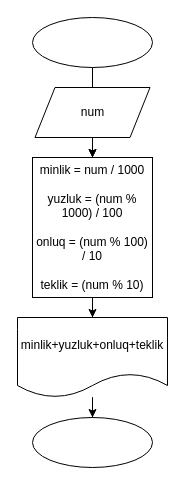
The diagram is 185 pixels wide and 485 high, and some of its shapes have lost their labels. Each missing label, with the box of its shape:
End: (32, 416, 152, 468)
Start: (32, 16, 152, 68)
